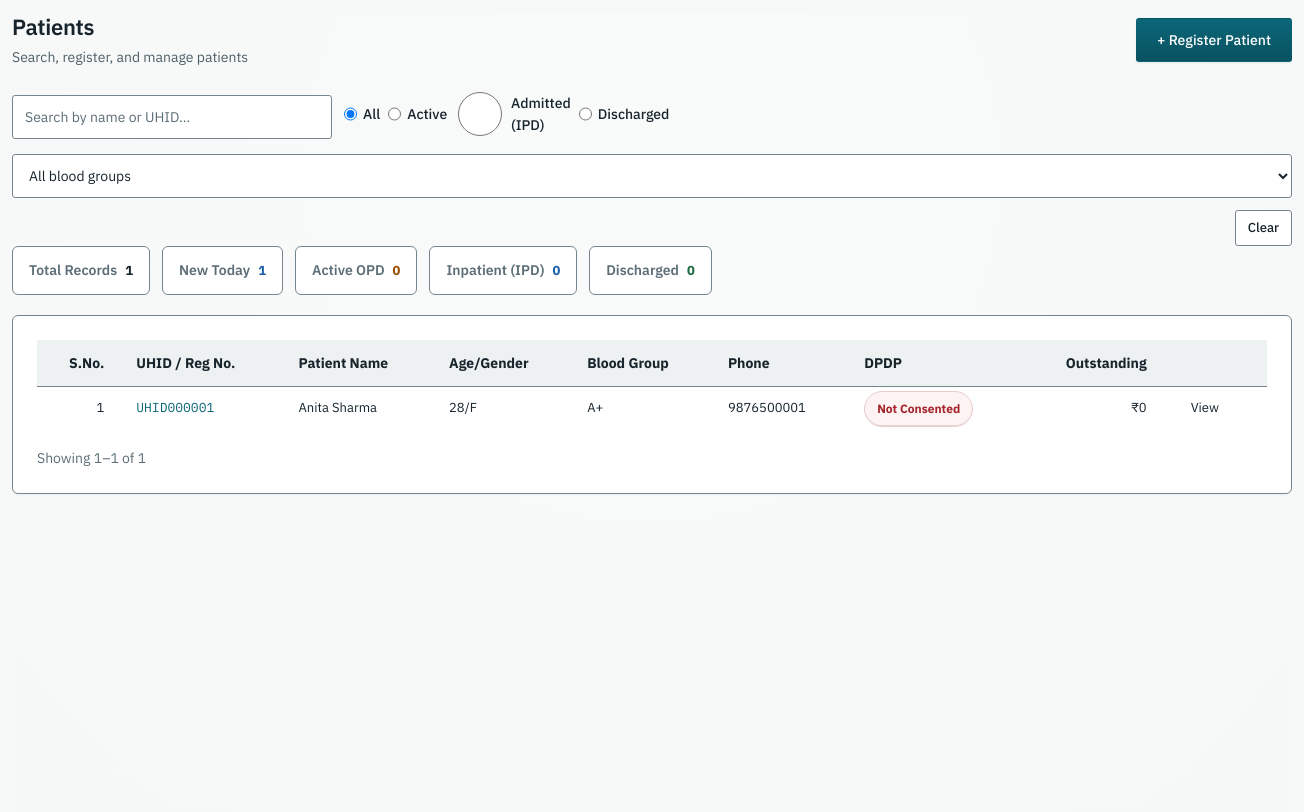
Test case: late DPDP consent (issue 114) › does not show consent controls to a clinician
What coordinates should you click on to do the following:
click the text "Anita Sharma"
I would click on:
 (358, 408)
Its box is 282,386 -> 433,430.
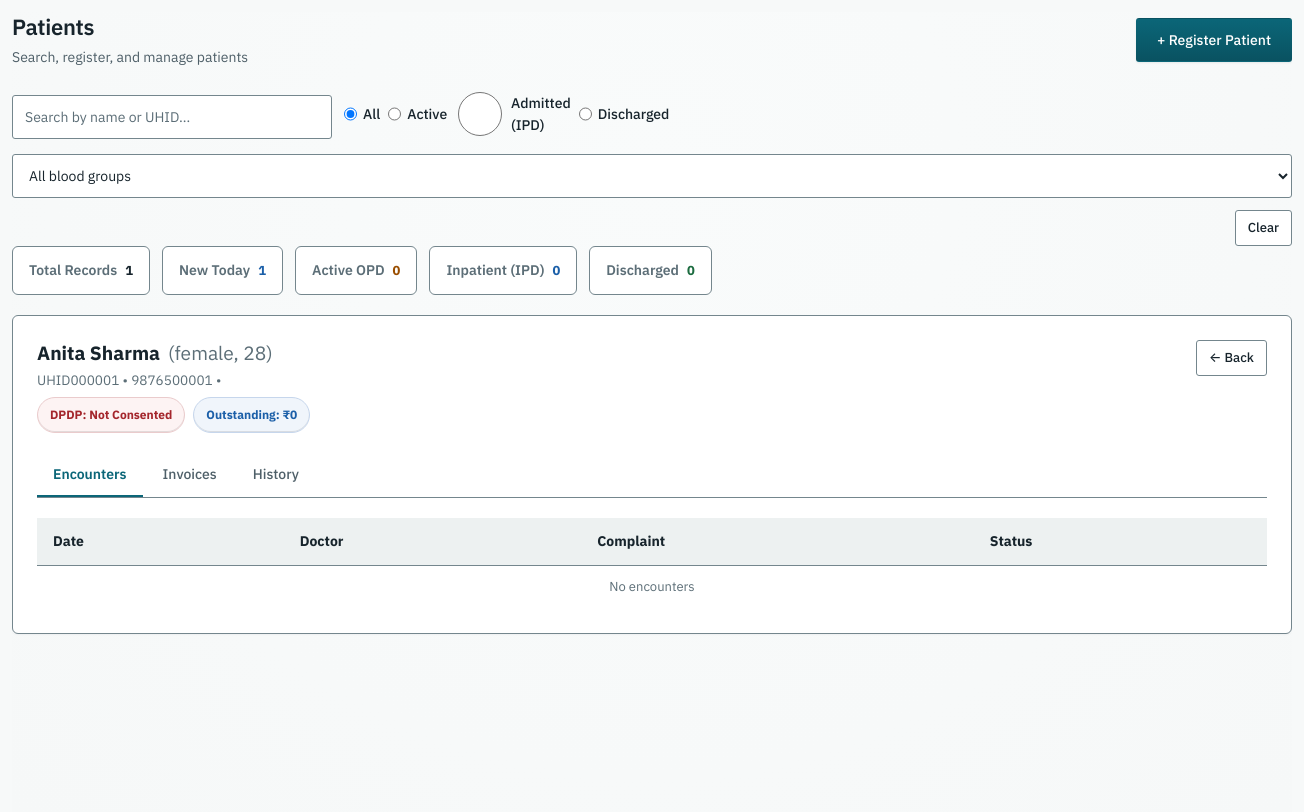
Result: the button "← Back" is shown at 1196,340 -> 1267,376
